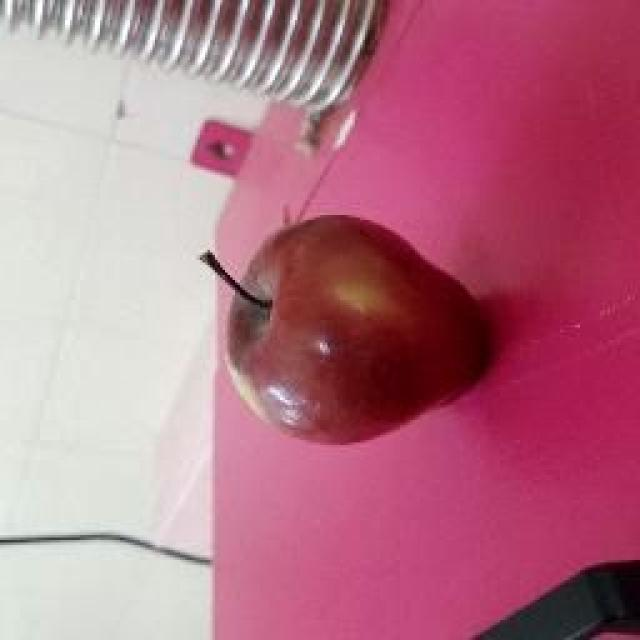Good_Apple: (200, 215, 490, 448)
